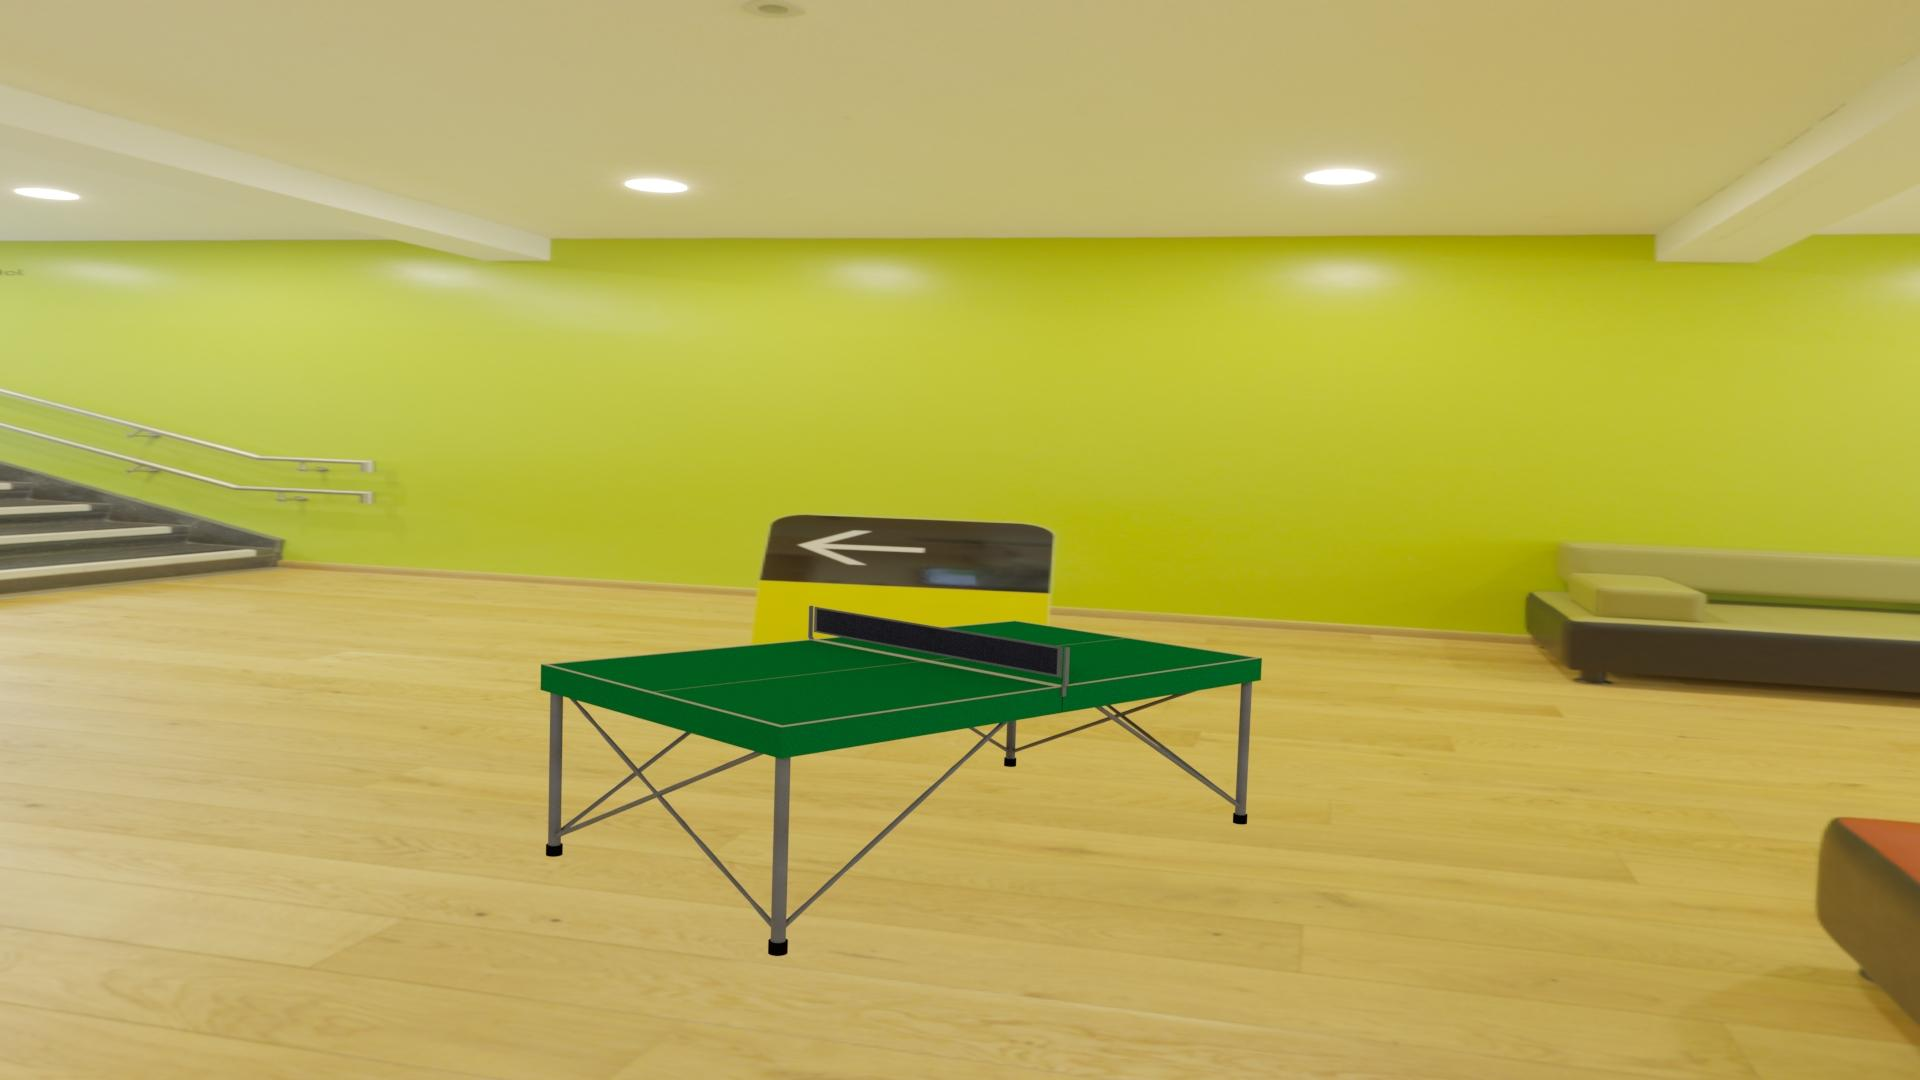table: (549, 621, 1255, 725)
